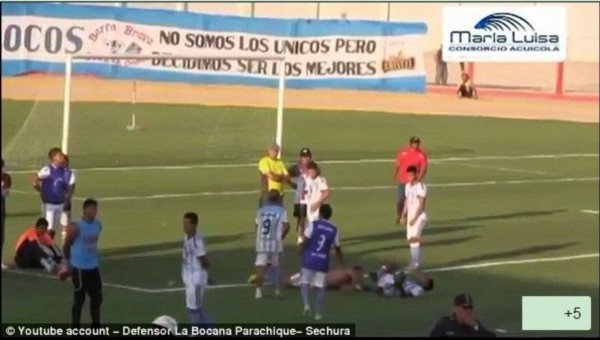falling: (365, 254, 436, 302)
